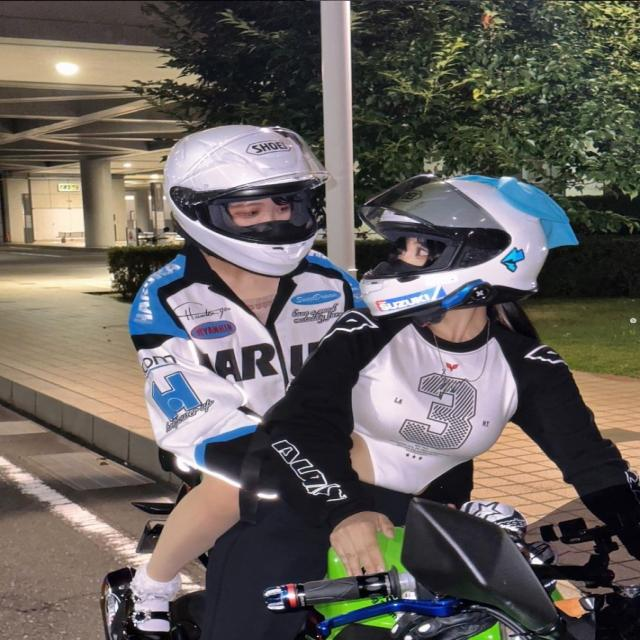helmet: (354, 169, 558, 327), (160, 120, 336, 282)
